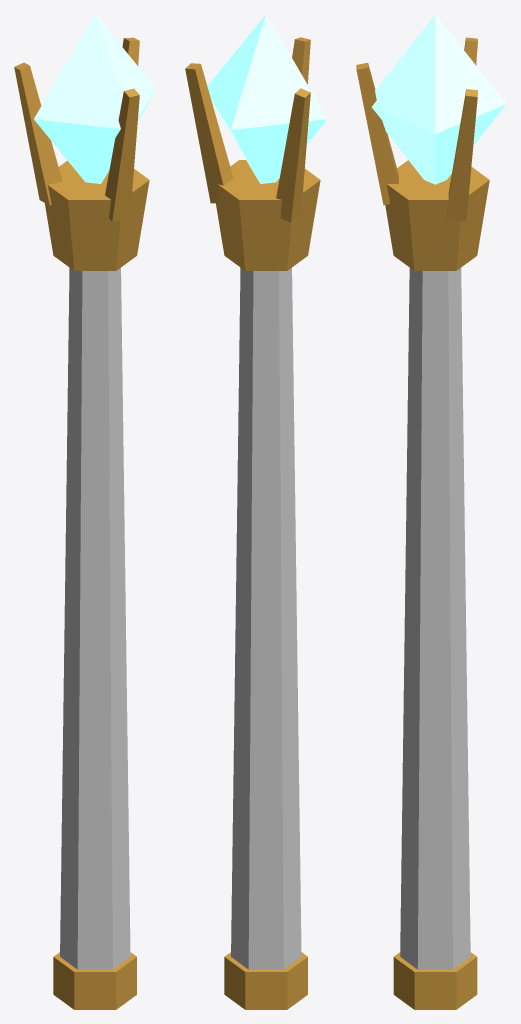
File: weapon_wand.glb
3 views of the same model, side by side, from view 1: azimuth 30°, elevation 25°; view 2: azimuth 150°, elevation 25°; view 3: azimuth 270°, elevation 25° (orthographic).
Visible parts, largest first — view 1: weapon_wand; view 2: weapon_wand; view 3: weapon_wand.
Part boxes in pixels (x1,y1,x2,y2): weapon_wand: (14, 14, 156, 1009); weapon_wand: (185, 14, 327, 1009); weapon_wand: (356, 14, 506, 1009).
Bounding box in the file's own units: 0.068 × 0.5176 × 0.0718.
